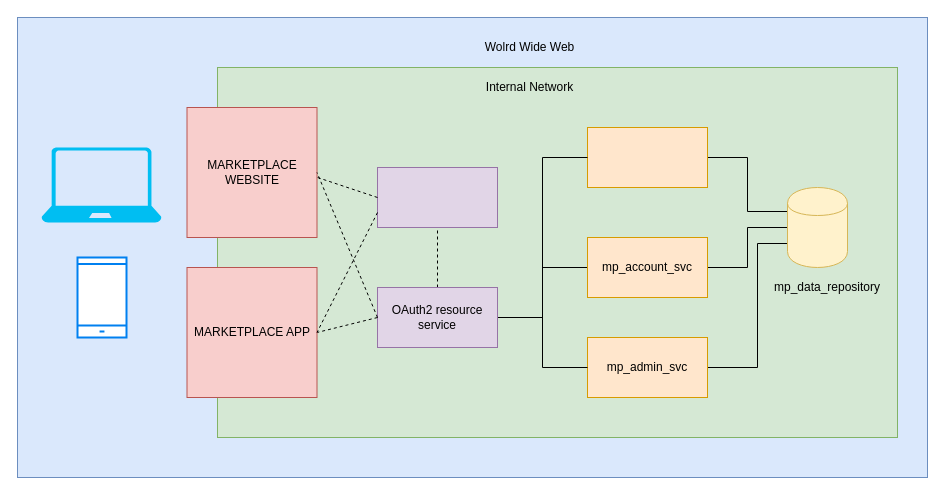
This 945x495 diagram has some shape labels left out. The box of each missing label's shape, as (x1, y1, x2, y2) in pixels:
mp_transaction_svc: (586, 126, 708, 188)
OAuth2 authorization service: (376, 166, 498, 228)
